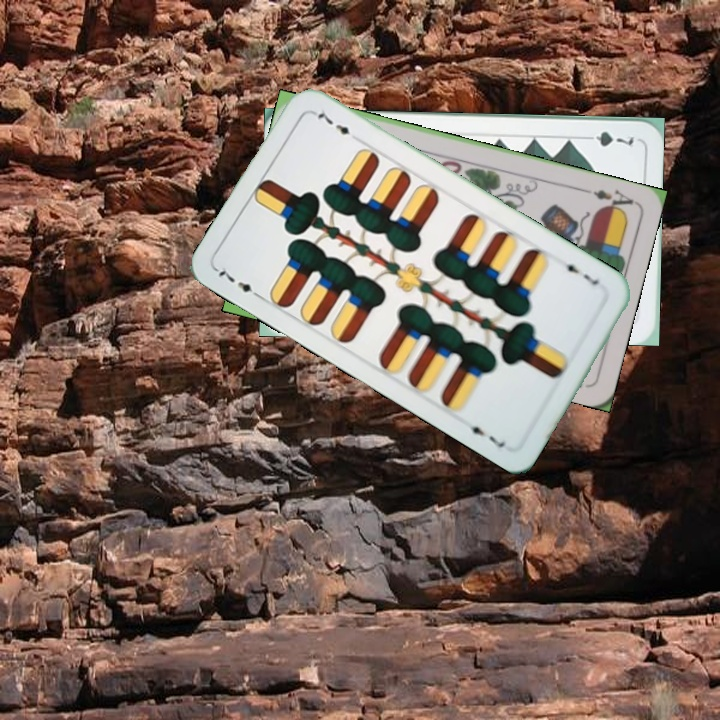E7: (215, 262, 265, 302), (558, 256, 603, 288)
EA: (579, 185, 637, 215)
G7: (579, 127, 638, 149)
